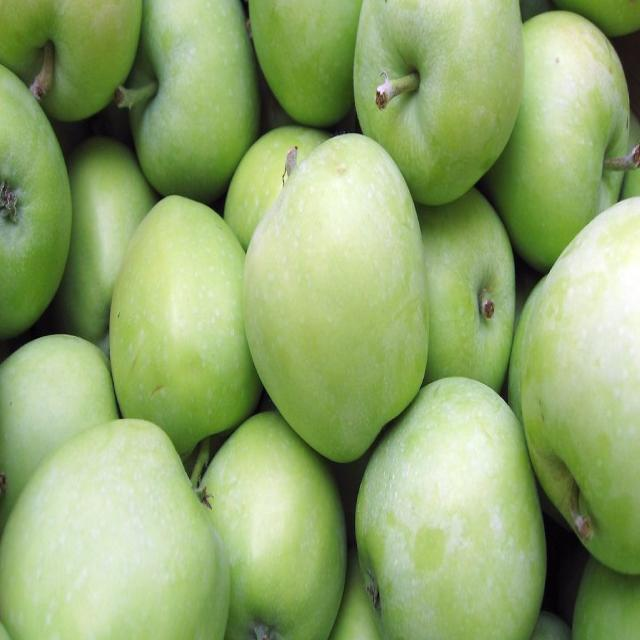Green Apple: (4, 1, 400, 618), (240, 129, 431, 461), (504, 190, 640, 576), (109, 194, 261, 450), (351, 1, 525, 205), (201, 406, 349, 640), (119, 1, 262, 202), (2, 49, 75, 342), (538, 1, 640, 36)
